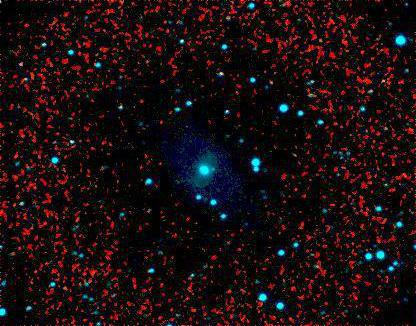star: (198, 153, 228, 183)
